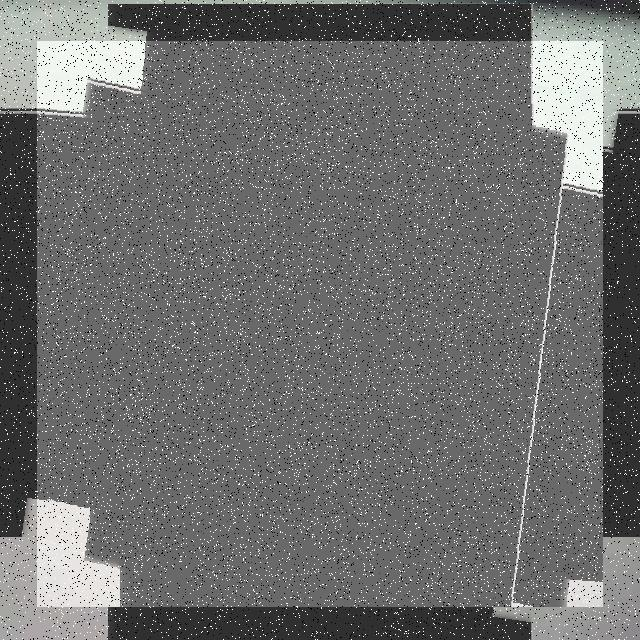dua ribu rupiah: (37, 41, 603, 607)
